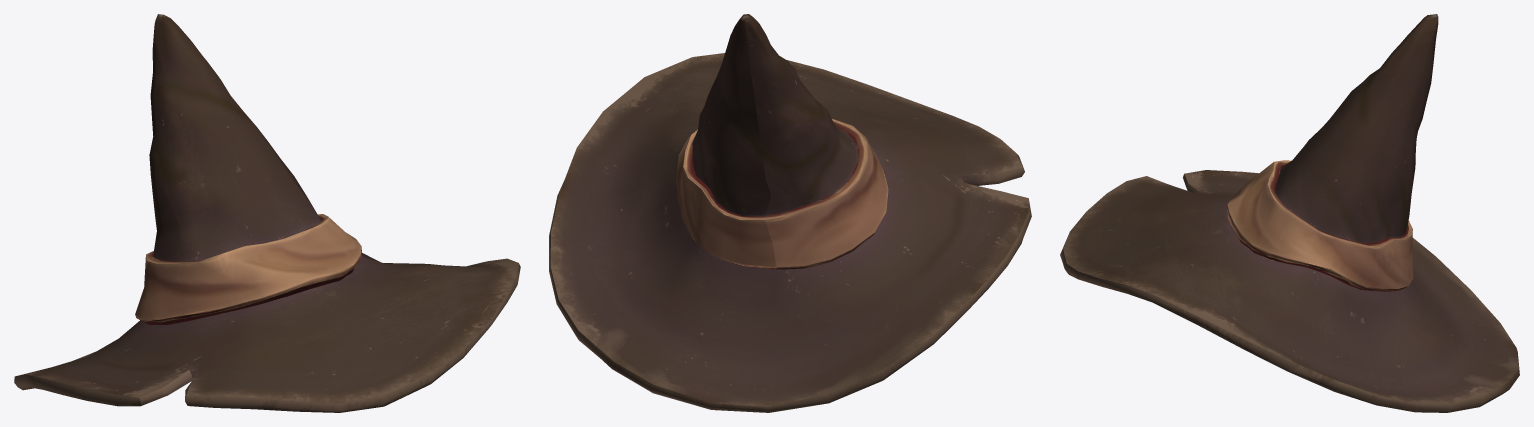
File: hat1.gltf
The picture shows the model from 3 angles, left to right: view 1: azimuth 30°, elevation 25°; view 2: azimuth 150°, elevation 25°; view 3: azimuth 270°, elevation 25°; orthographic projection. The views are drawn at different scales.
Visible parts, largest first — view 1: Object_2.002; view 2: Object_2.002; view 3: Object_2.002.
Boxes of the visible parts, <box> form: Object_2.002: <box>14,14,520,412</box>; Object_2.002: <box>549,14,1031,412</box>; Object_2.002: <box>1060,14,1519,412</box>.
Size of the model in its own units: 41.85 by 33.91 by 40.8.
Materials: 1 (1 with a texture image).
